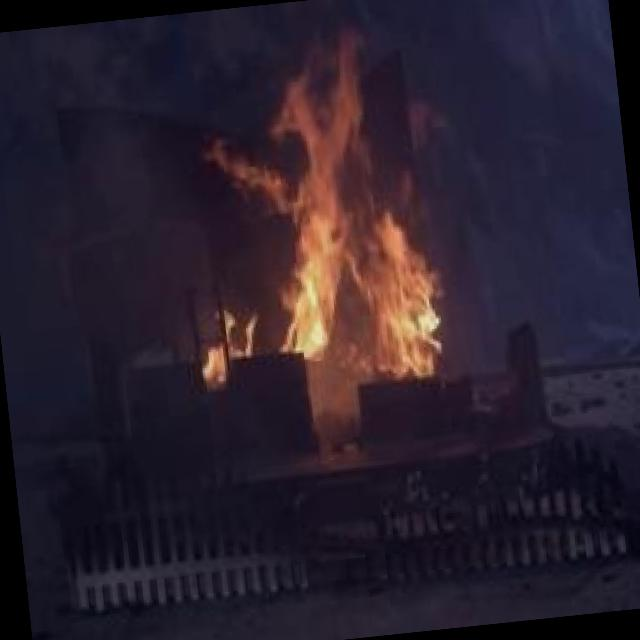fire: (144, 17, 493, 420)
